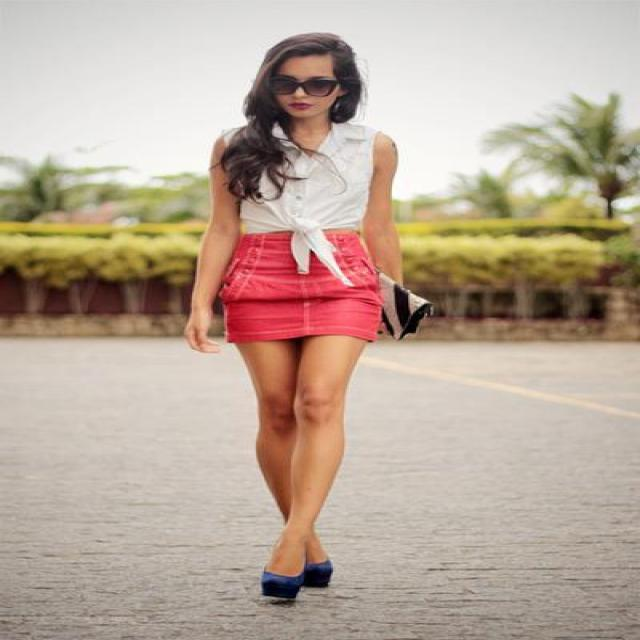bag: (382, 285, 428, 338)
shirt: (242, 121, 372, 268)
shoe: (262, 559, 332, 607)
skirt: (211, 228, 403, 345)
sunglass: (256, 64, 314, 94)
